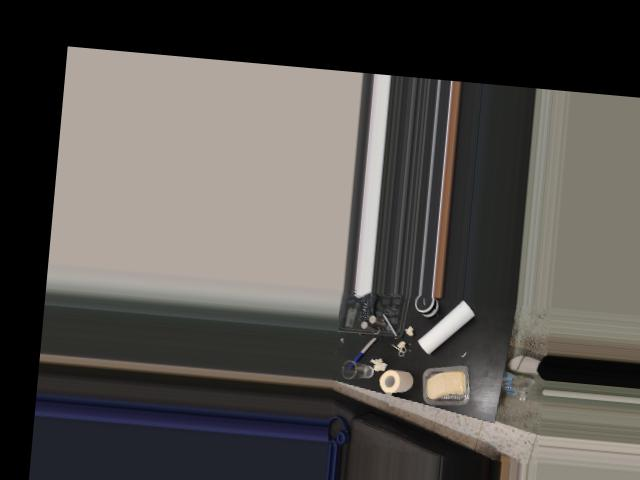cheese: (419, 360, 477, 410)
